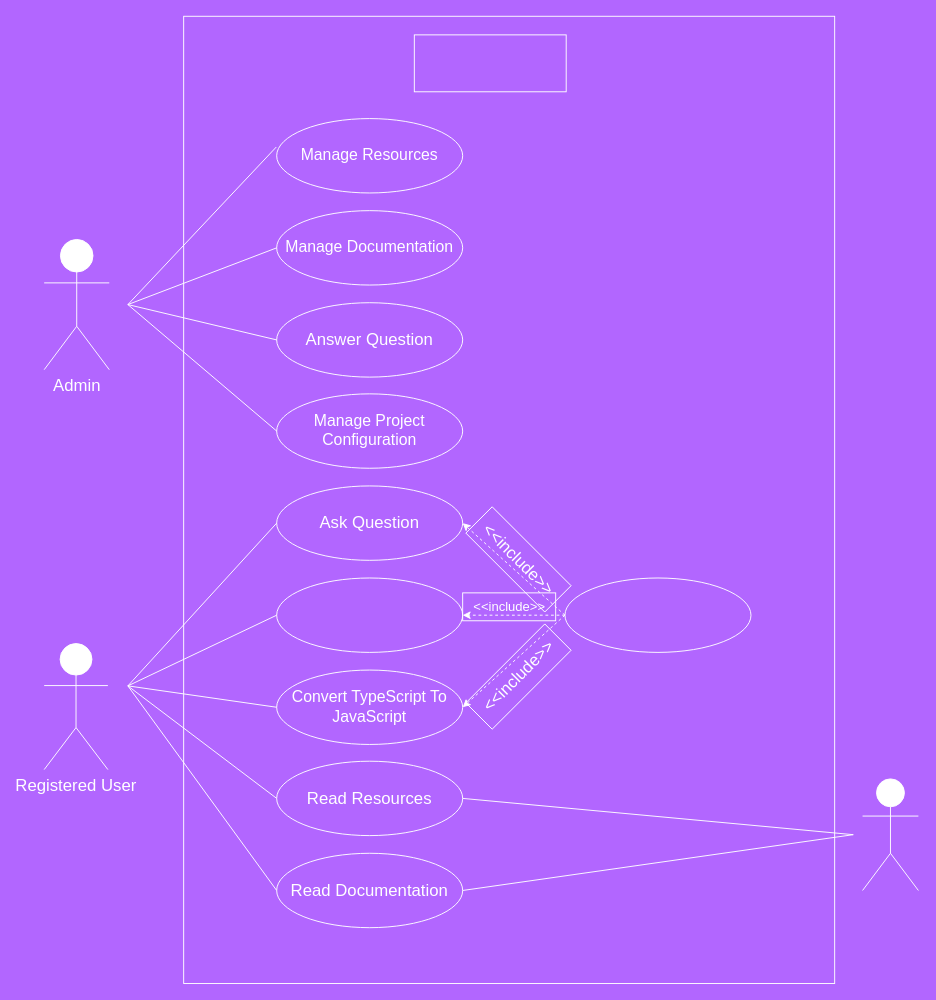
Image size: 936x1000. Some labels were removed from this diagram. The shapes that lost their labels are listed below. From the top down, each one's centre as x and y in pixels, then its label:
[489,63]: System
[369,614]: Convert JavaScript To TypeScript
[657,614]: Authenticate
[890,834]: Guest
